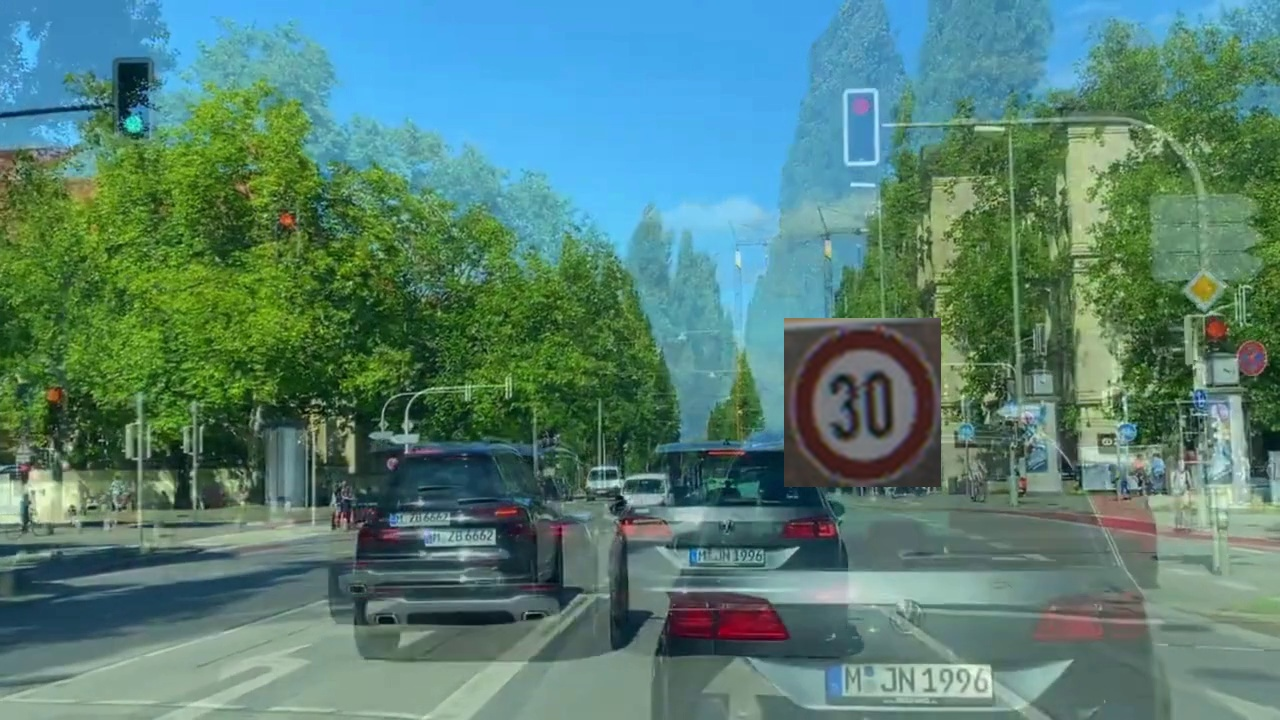Speed 30: (784, 318, 941, 487)
